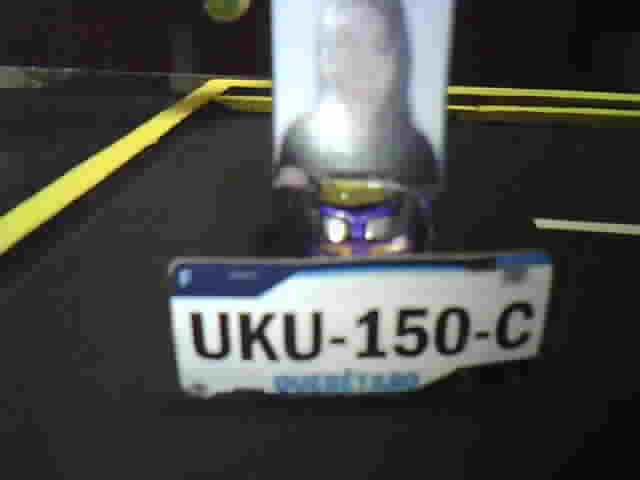PLACA: (164, 247, 558, 403)
ROSTRO: (274, 2, 441, 183)
